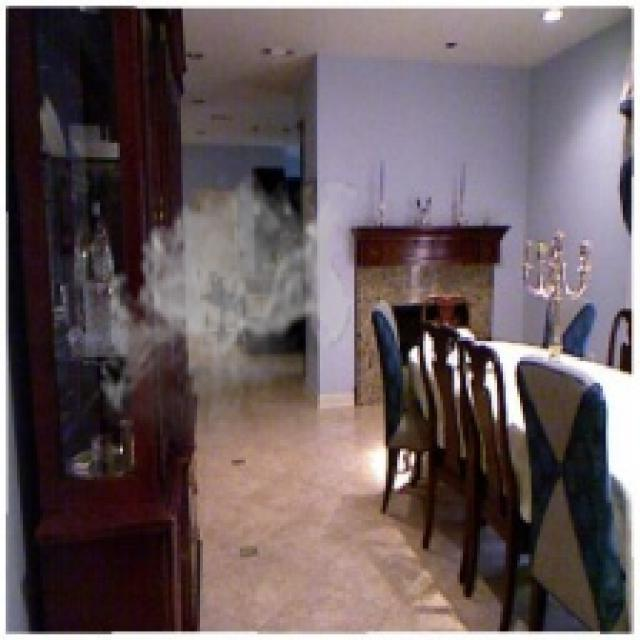Smoke: (91, 171, 358, 446)
